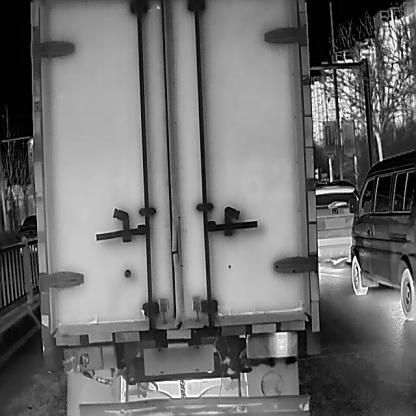car: (22, 0, 319, 415), (349, 148, 416, 319), (316, 181, 357, 267), (18, 214, 36, 239)
